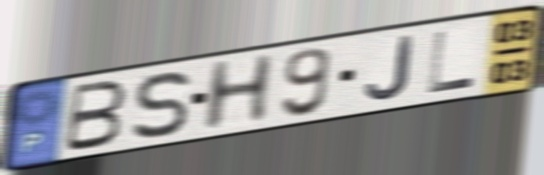9: (281, 46, 334, 120)
B: (61, 77, 130, 155)
H: (199, 50, 279, 135)
J: (363, 33, 416, 103)
L: (426, 28, 479, 96)
S: (129, 68, 194, 141)
